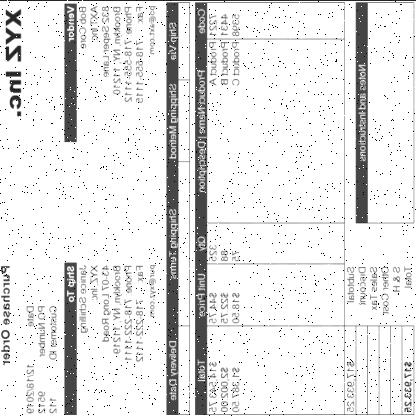Paragraph: (344, 263, 414, 414), (66, 3, 158, 104), (66, 262, 158, 362), (25, 303, 59, 415), (4, 6, 24, 118), (0, 262, 12, 366), (357, 62, 367, 162), (168, 82, 179, 158), (168, 207, 178, 279), (168, 338, 178, 400), (168, 20, 178, 61)
Table: (194, 2, 242, 414)
